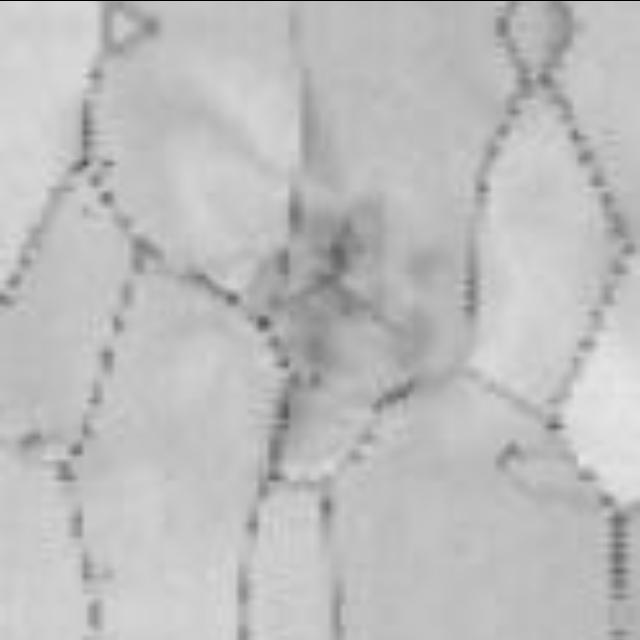good_void: (245, 211, 413, 382)
